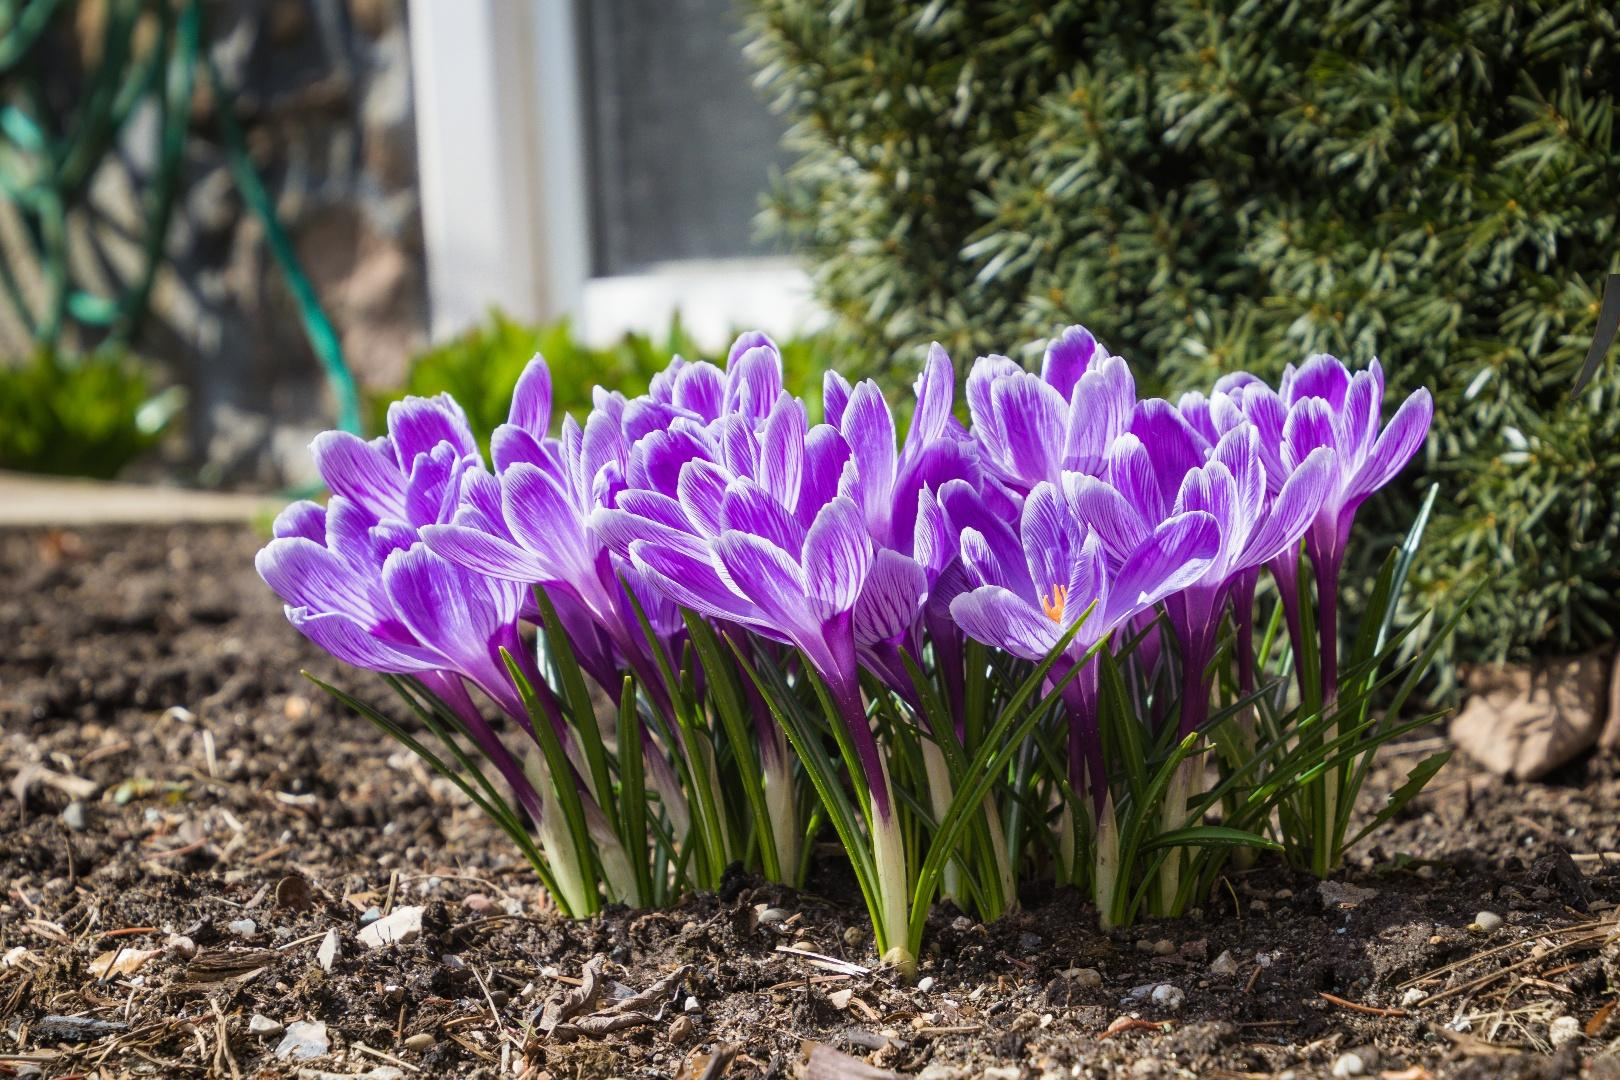trashbox-cardboard: (1565, 274, 1620, 404)
